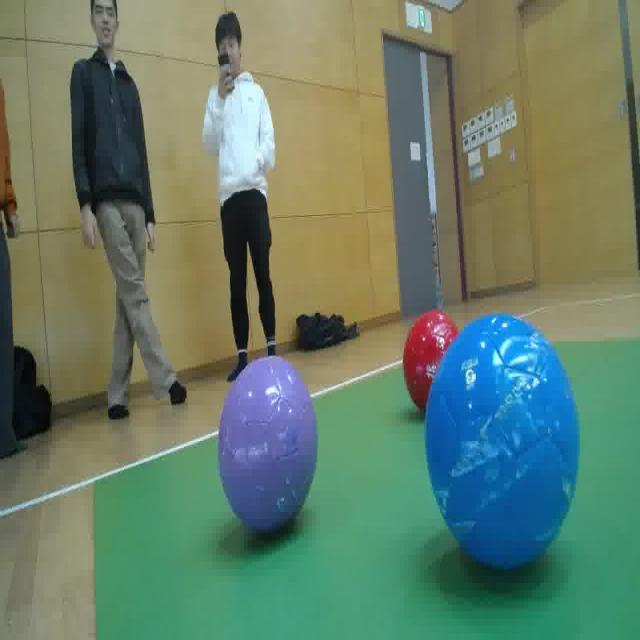blue_ball: (414, 316, 580, 581)
purple_ball: (213, 357, 314, 529)
red_ball: (404, 308, 461, 409)
